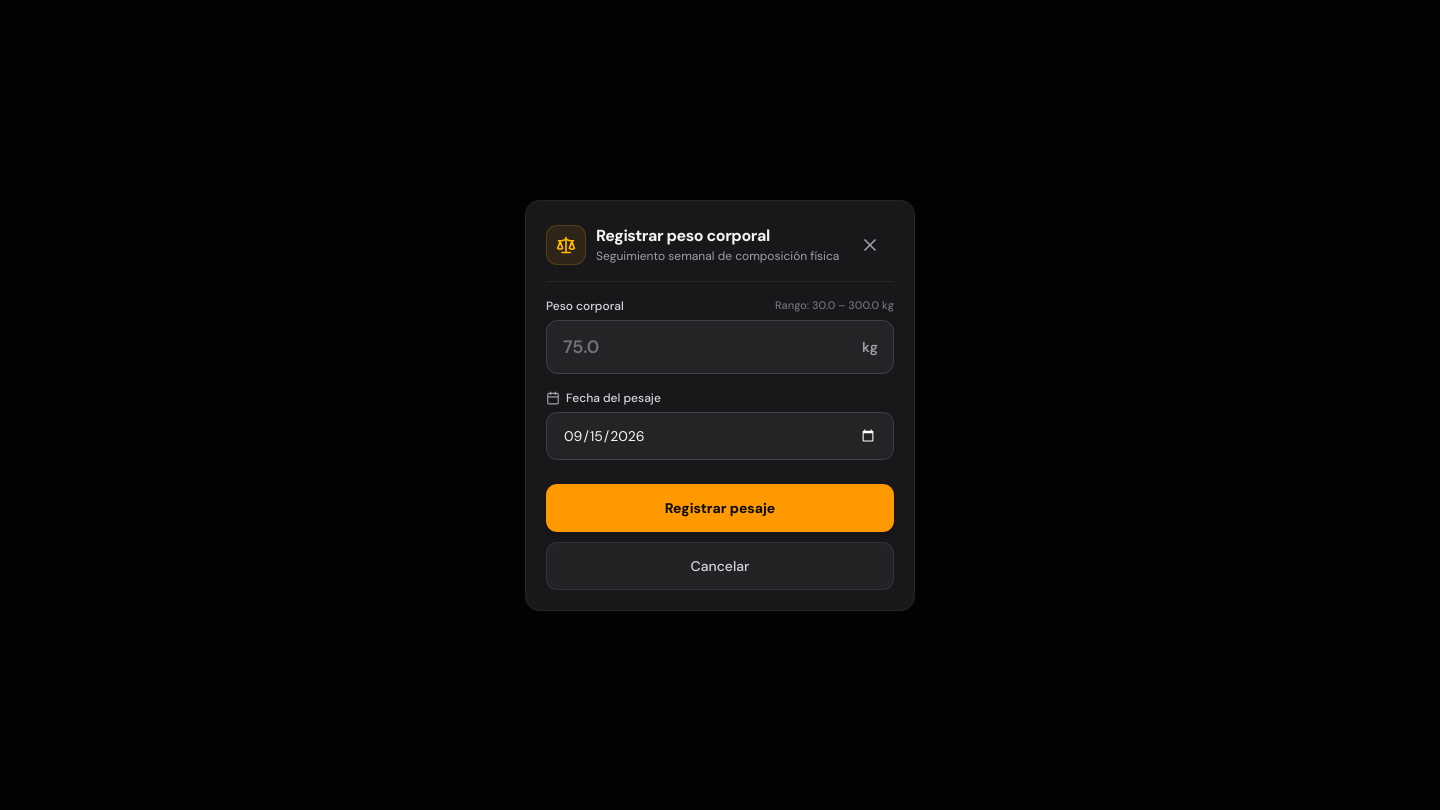
Test: TASK-32: WeightLogModal.tsx — Mobile-First Weight Logging & Editing (RF-01, RF-02, Art. 2, Art. 6) › Numerical Range Validation (RF-01 CA-01.5) › should show error when weight is less than 30.0 kg and block submission
The width and height of the screenshot is (1440, 810).
Type "25.0" into the field with placeholder "75.0" at (720, 346), box [546, 320, 894, 374]
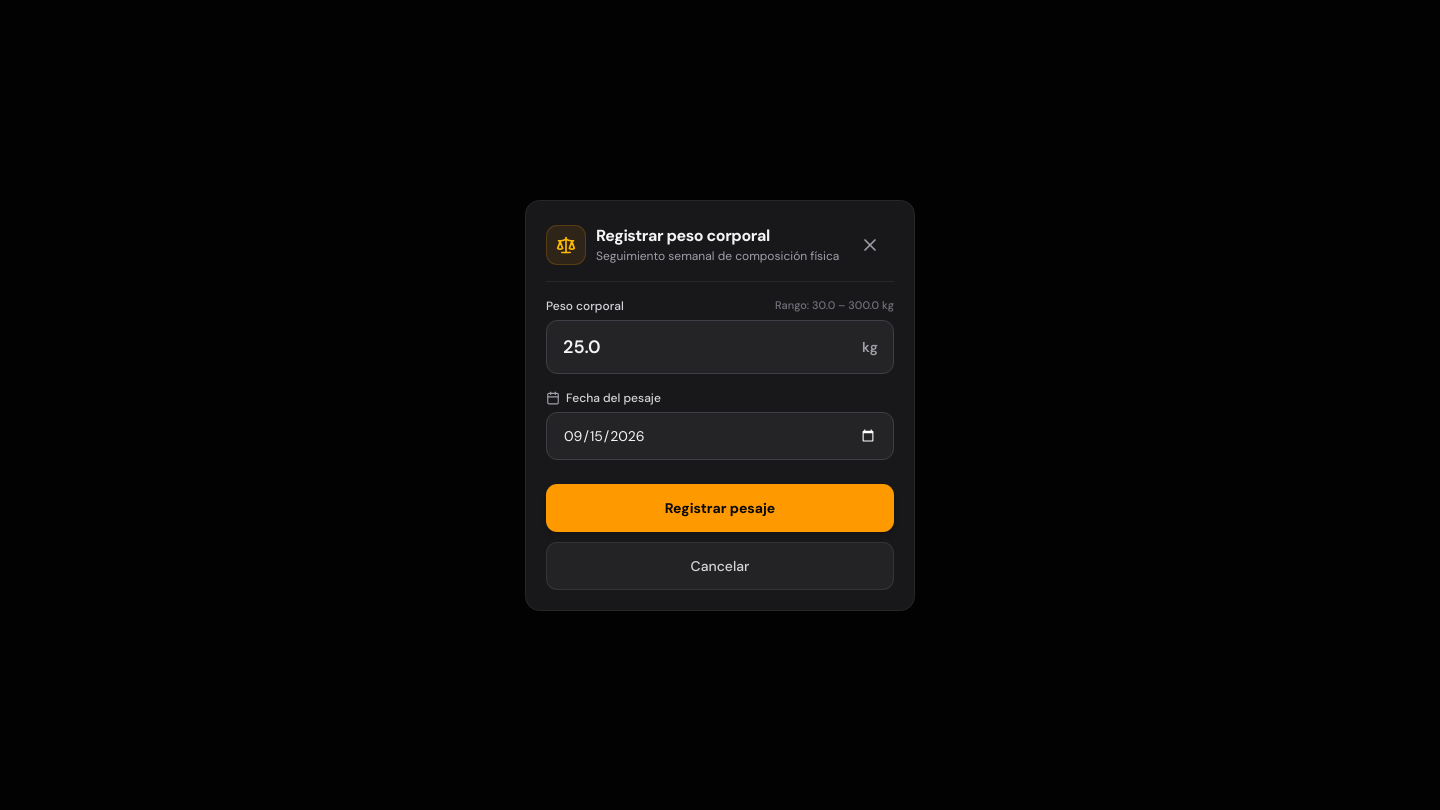
Click the button "Registrar pesaje" at (720, 508), box [546, 484, 894, 532]
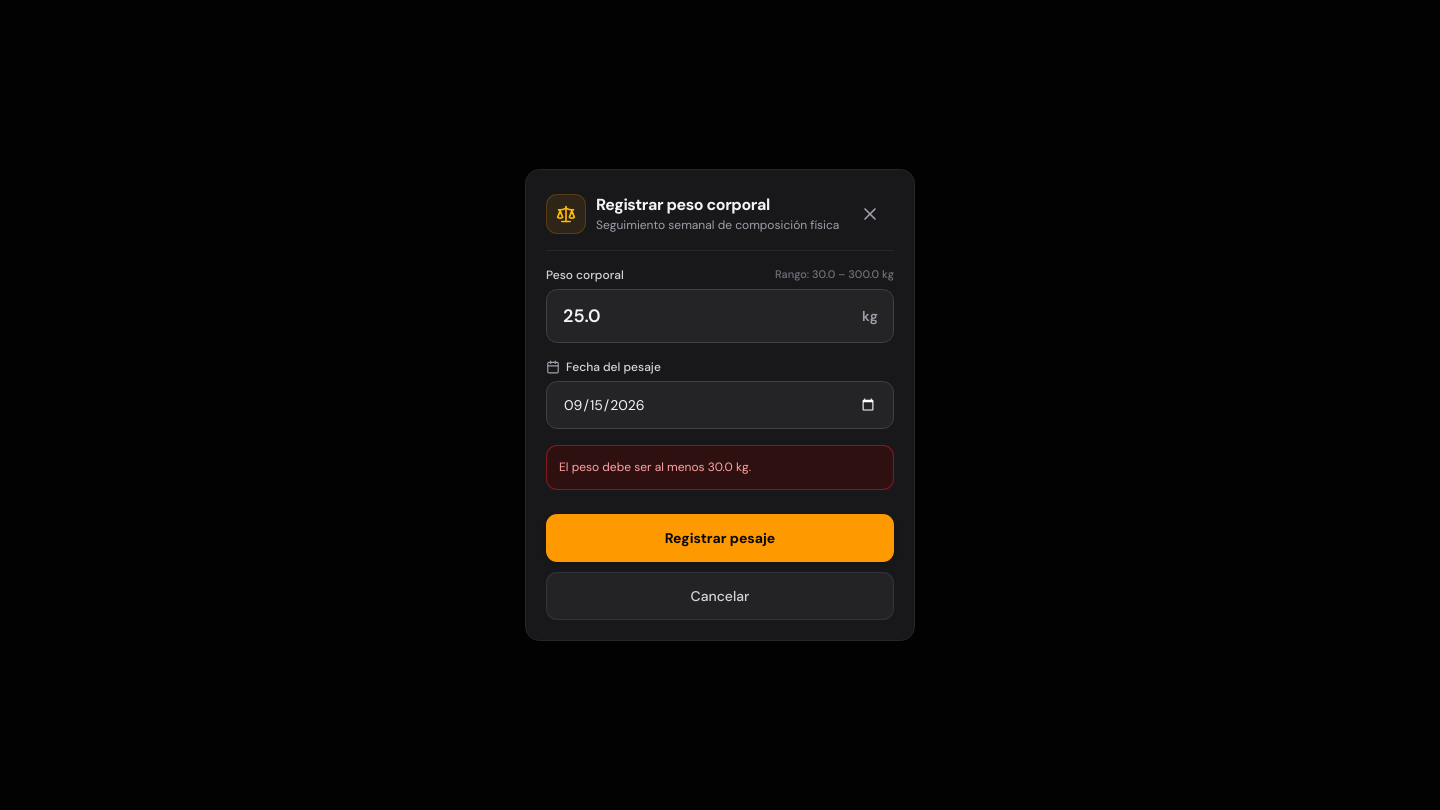
Now the text "El peso debe ser al menos 30.0 kg." is shown, box [546, 445, 894, 490]
